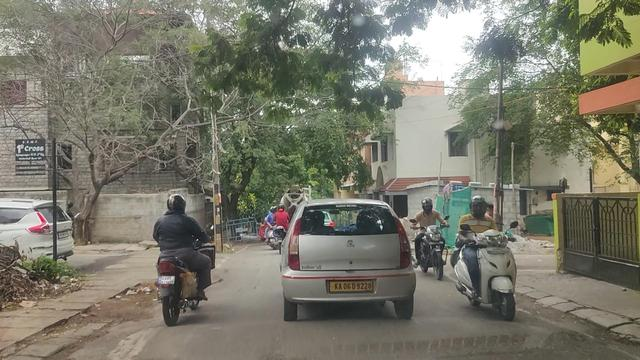LMV: (279, 202, 407, 320), (454, 196, 520, 330), (153, 190, 210, 318)
